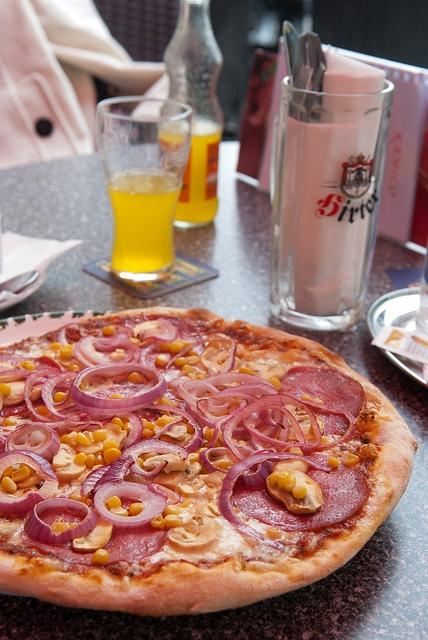onion: (218, 452, 334, 548), (222, 392, 322, 460), (186, 372, 277, 437), (68, 362, 168, 408), (0, 449, 60, 516), (93, 479, 166, 527), (24, 497, 98, 544), (143, 403, 204, 454), (164, 337, 236, 375), (238, 401, 296, 448), (121, 438, 190, 477), (4, 422, 60, 461), (24, 368, 64, 422), (252, 404, 306, 444), (42, 370, 79, 420), (79, 332, 135, 365), (176, 382, 232, 412), (93, 454, 135, 492), (73, 397, 158, 415), (80, 460, 117, 495), (208, 411, 237, 449), (114, 412, 144, 448), (139, 318, 179, 343), (214, 382, 278, 396), (196, 399, 230, 422), (200, 448, 228, 474), (56, 322, 80, 347), (183, 379, 220, 395), (258, 409, 286, 429), (213, 391, 259, 402), (140, 342, 160, 365), (248, 430, 266, 450), (278, 414, 290, 442), (1, 404, 27, 416), (1, 369, 36, 377), (15, 352, 56, 358), (246, 411, 260, 428), (207, 397, 227, 406), (229, 402, 240, 413), (0, 425, 17, 431)
